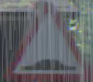Speed Breaker ahead: (17, 8, 74, 76)
